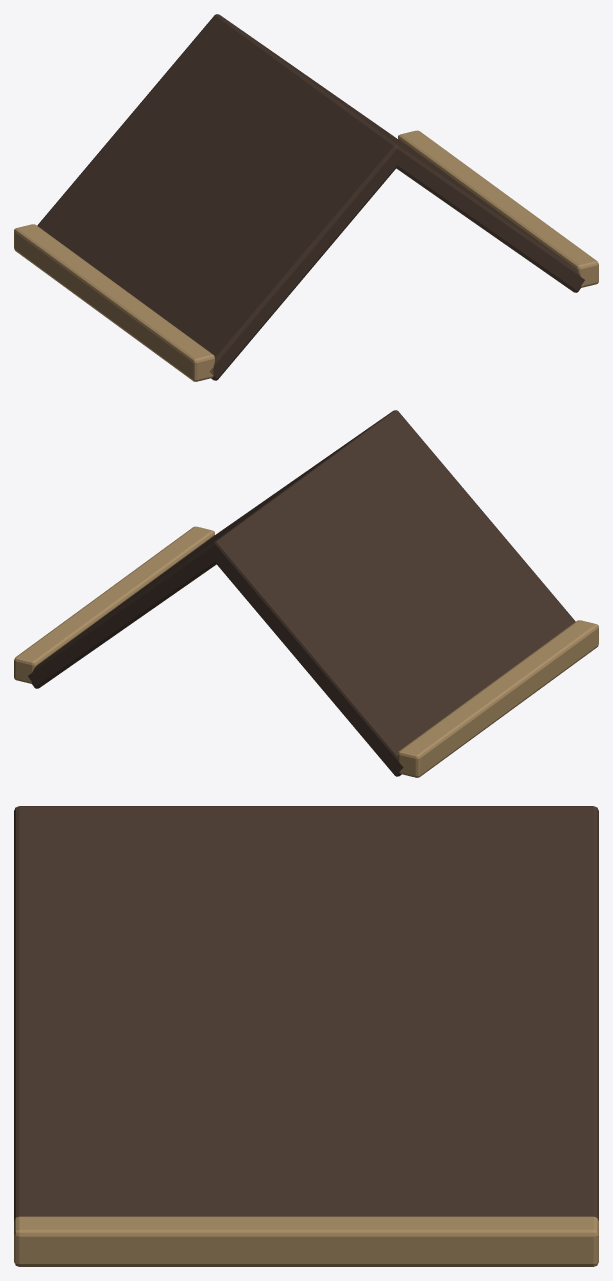
Rendered from roof_gable_2x2m__structure.glb.
The picture shows the model from 3 angles, top to bottom: view 1: azimuth 30°, elevation 25°; view 2: azimuth 150°, elevation 25°; view 3: azimuth 270°, elevation 25°; orthographic projection. The views are drawn at different scales.
Visible parts, largest first — view 1: roof_gable_2x2m__structure__mesh_00; view 2: roof_gable_2x2m__structure__mesh_00; view 3: roof_gable_2x2m__structure__mesh_00.
Boxes of the visible parts, bbox=[...] form: roof_gable_2x2m__structure__mesh_00: bbox=[14, 14, 598, 381]; roof_gable_2x2m__structure__mesh_00: bbox=[14, 410, 598, 777]; roof_gable_2x2m__structure__mesh_00: bbox=[14, 806, 598, 1266].
Size of the model in its own units: 2.58 by 1.16 by 2.
